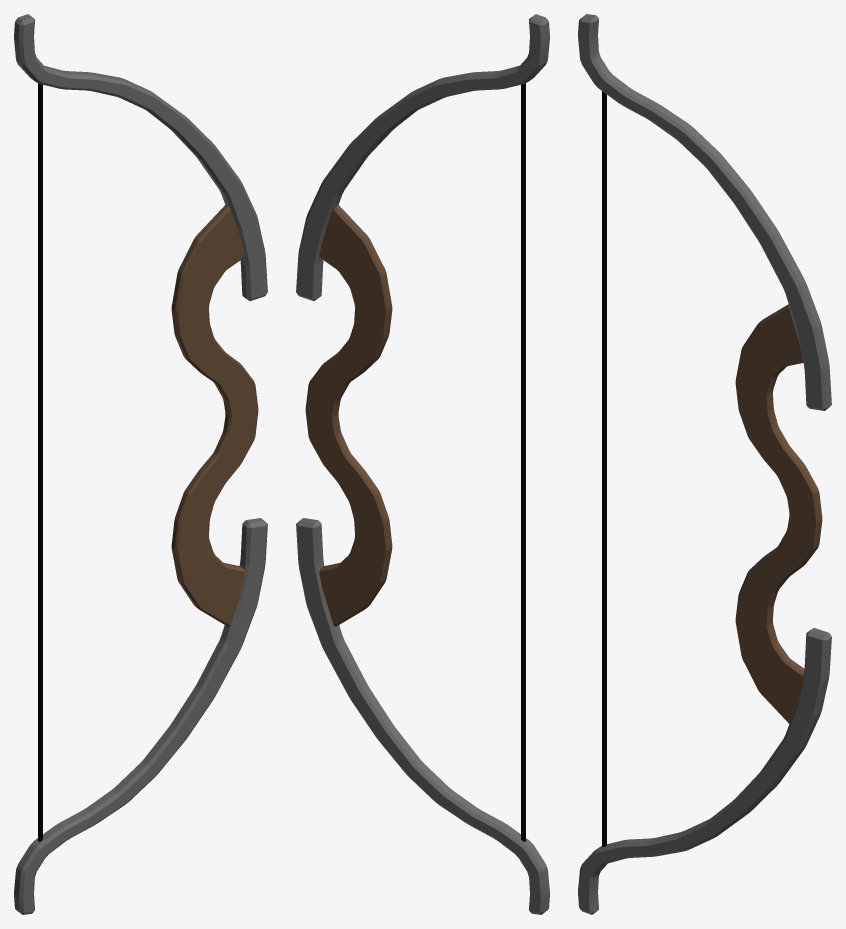
File: Bow_1.fbx
3 views of the same model, side by side, from view 1: azimuth 30°, elevation 25°; view 2: azimuth 150°, elevation 25°; view 3: azimuth 330°, elevation 25° (orthographic).
Visible parts, largest first — view 1: group3_polySurface1, pCube13, pCube12, pCylinder8; view 2: group3_polySurface1, pCube13, pCube12, pCylinder8; view 3: group3_polySurface1, pCube12, pCube13, pCylinder8.
Part boxes in pixels (x1,y1,x2,y2): group3_polySurface1: (171, 205, 258, 626); pCube13: (14, 518, 267, 914); pCube12: (14, 14, 267, 300); pCylinder8: (38, 83, 42, 841); group3_polySurface1: (305, 205, 392, 626); pCube13: (296, 518, 549, 914); pCube12: (296, 14, 549, 300); pCylinder8: (521, 83, 525, 841); group3_polySurface1: (735, 304, 822, 723); pCube12: (578, 14, 831, 410); pCube13: (578, 628, 831, 914); pCylinder8: (602, 91, 606, 846).
Bounding box in the file's own units: 1.71 × 5.88 × 0.0952.
